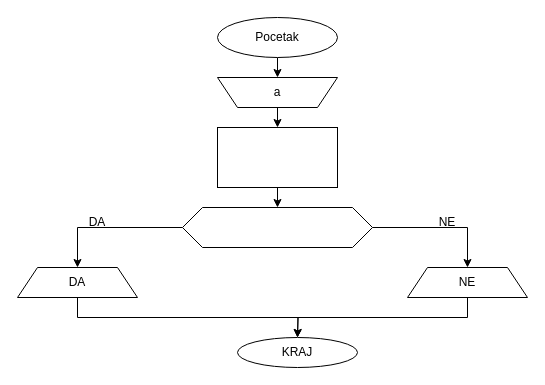
Some shapes in this 545 by 385 pixel diagram are drawn without their labels. The centre of each missing label's shape, as x and y in pixels:
a == j * j * j + d * d * d +s * s * s: the point at 277,227
j = a mod 10 s = a div 100 d = (a div 10) mod 10: the point at 277,157
